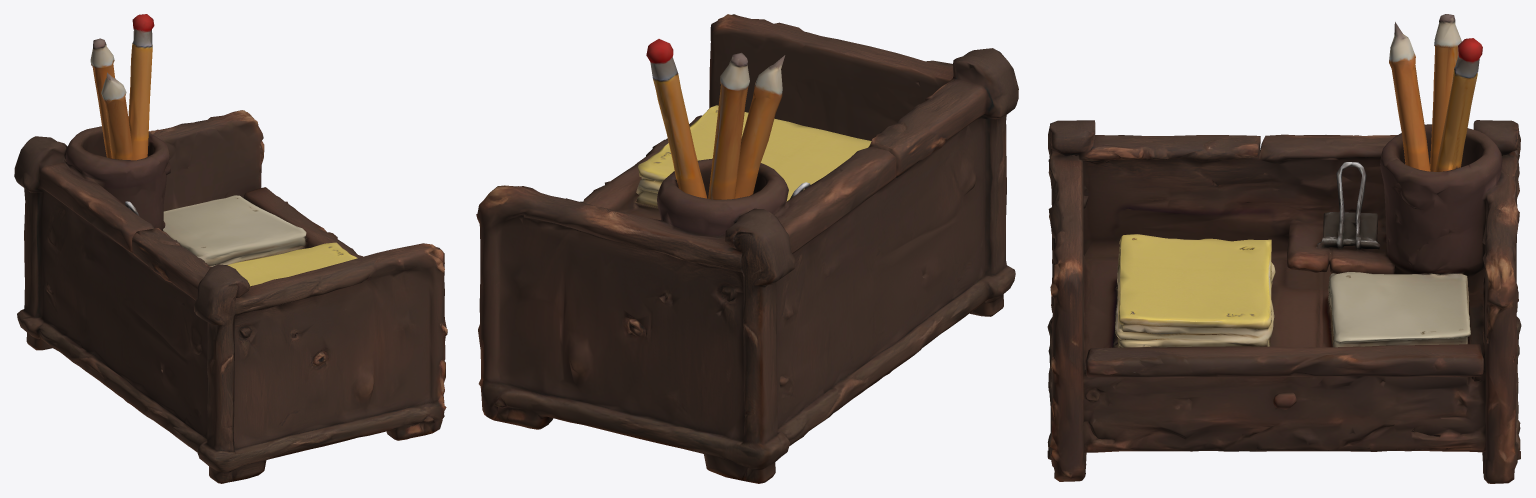
3 renders of one model, left to right at view 1: azimuth 30°, elevation 25°; view 2: azimuth 150°, elevation 25°; view 3: azimuth 270°, elevation 25°, orthographic. The views are drawn at different scales.
Parts seen in each view (by area): view 1: tripo_node_d4730816-e01d-43d7-aa29-abe83826ee77; view 2: tripo_node_d4730816-e01d-43d7-aa29-abe83826ee77; view 3: tripo_node_d4730816-e01d-43d7-aa29-abe83826ee77.
Boxes of the visible parts, x1,y1,x2,y2 form: tripo_node_d4730816-e01d-43d7-aa29-abe83826ee77: (14,14,447,483); tripo_node_d4730816-e01d-43d7-aa29-abe83826ee77: (476,14,1018,483); tripo_node_d4730816-e01d-43d7-aa29-abe83826ee77: (1047,14,1521,483).
Size of the model in its own units: 0.71 by 0.874 by 1.
Materials: 1 (1 with a texture image).
